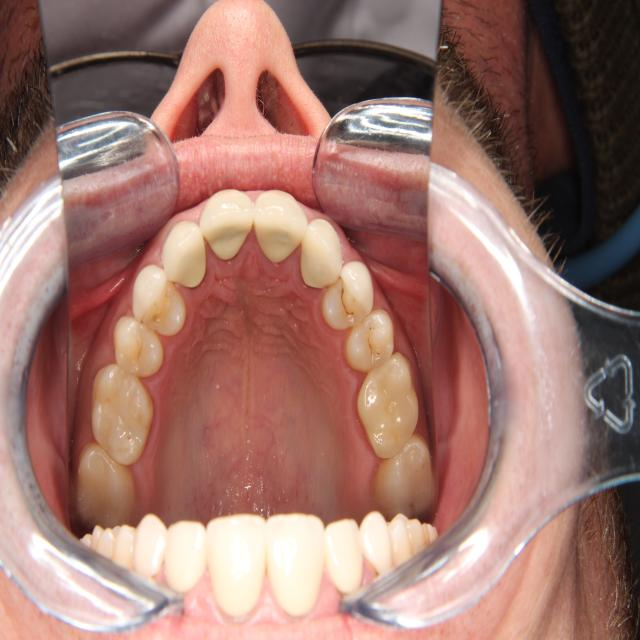tooth: (81, 351, 159, 471), (351, 346, 425, 465), (364, 423, 445, 530), (75, 433, 143, 536), (317, 251, 377, 335), (127, 261, 189, 342), (197, 181, 257, 263), (339, 297, 399, 377), (251, 184, 309, 266), (107, 309, 168, 385), (158, 218, 211, 295), (300, 206, 346, 294)
